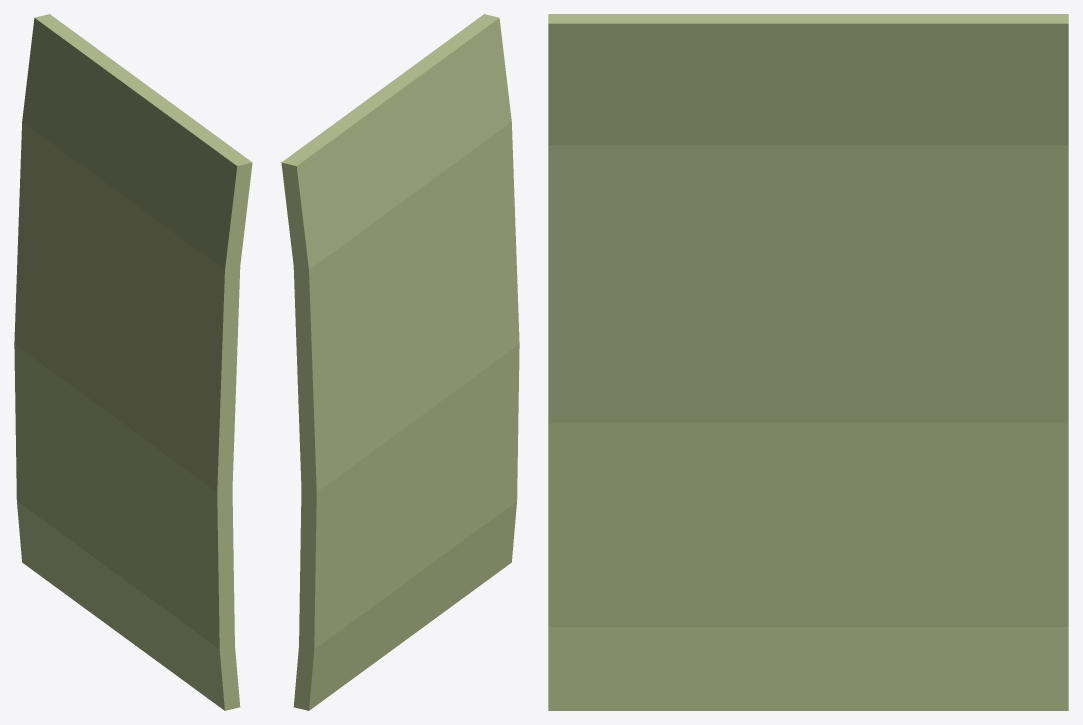
The model's file is DocumentPaper.fbx.
3 renders of one model, left to right at view 1: azimuth 30°, elevation 25°; view 2: azimuth 150°, elevation 25°; view 3: azimuth 270°, elevation 25°, orthographic. The views are drawn at different scales.
Parts seen in each view (by area): view 1: DocumentPaper; view 2: DocumentPaper; view 3: DocumentPaper.
Part boxes in pixels (x1,y1,x2,y2): DocumentPaper: (14,14,252,710); DocumentPaper: (281,14,519,710); DocumentPaper: (548,14,1068,710).
Bounding box in the file's own units: 10.68 × 157 × 106.
